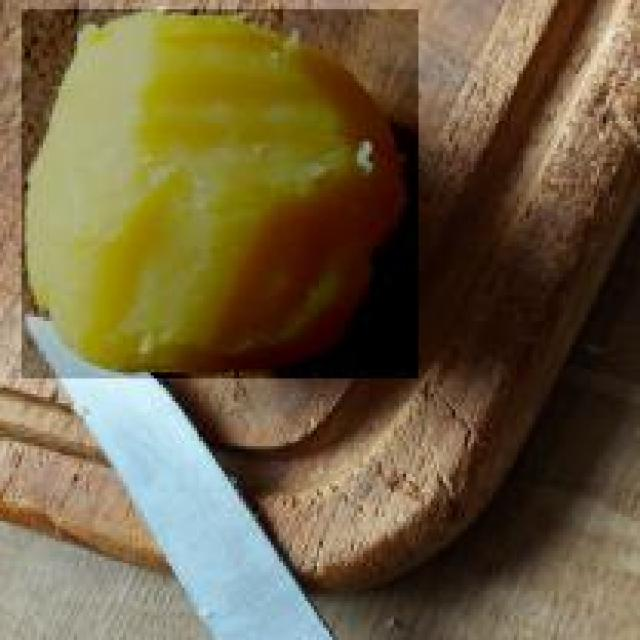butter: (17, 9, 417, 382)
